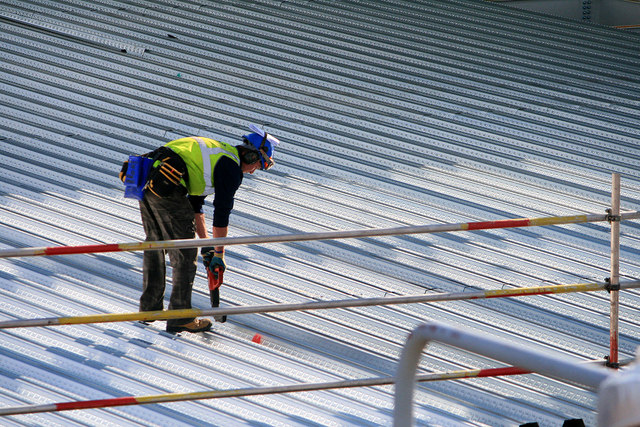Hard Hat: (233, 124, 275, 176)
Person: (124, 123, 275, 333)
Vest: (143, 143, 266, 201)
